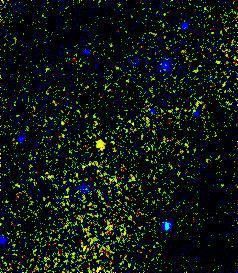star: (89, 129, 119, 159)
